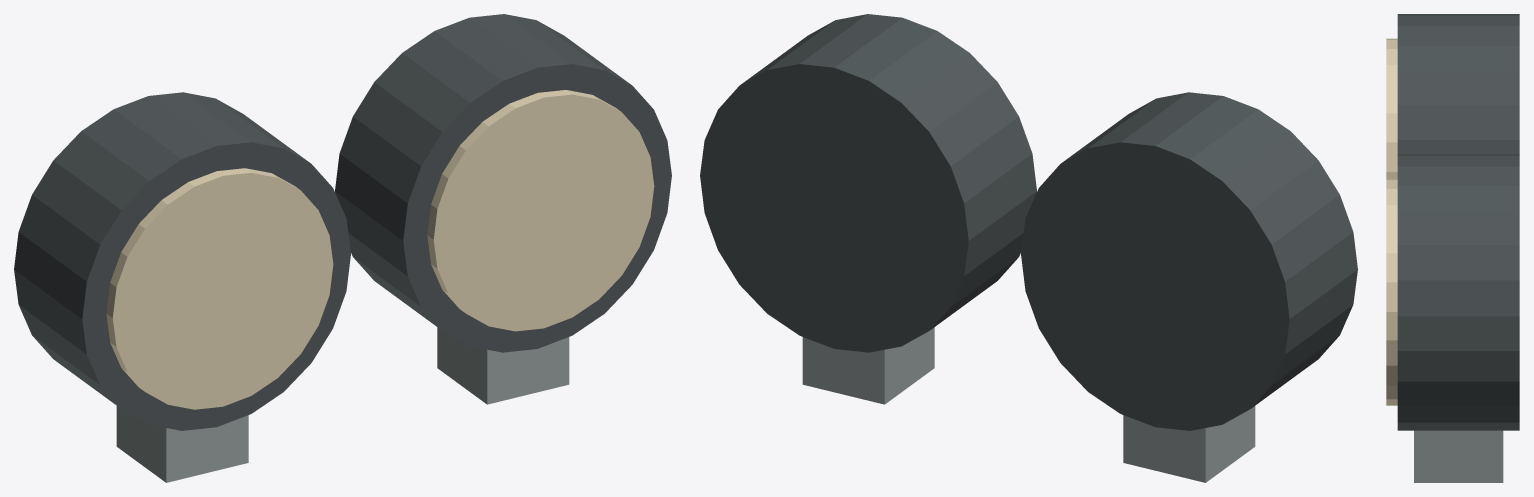
Rendered from KIT_LIGHT_BumperPods.glb.
3 views of the same model, side by side, from view 1: azimuth 30°, elevation 25°; view 2: azimuth 150°, elevation 25°; view 3: azimuth 270°, elevation 25° (orthographic). The views are drawn at different scales.
Visible parts, largest first — view 1: Housings, Lenses, Mounts; view 2: Housings, Mounts; view 3: Housings, Mounts, Lenses.
Boxes of the visible parts, x1,y1,x2,y2 form: Housings: (14, 14, 671, 430); Lenses: (106, 90, 654, 409); Mounts: (116, 327, 569, 482); Housings: (700, 14, 1357, 430); Mounts: (802, 327, 1255, 482); Housings: (1397, 14, 1519, 430); Mounts: (1414, 430, 1503, 482); Lenses: (1386, 38, 1397, 405).
Bounding box in the file's own units: 0.294 × 0.159 × 0.0645.
